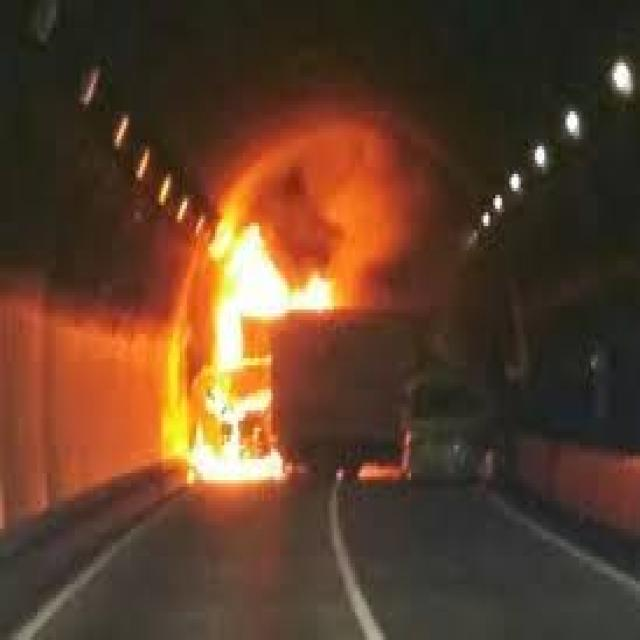Fire: (178, 213, 344, 503)
